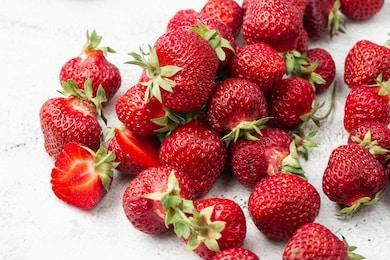Fresa: (155, 113, 230, 202), (143, 26, 218, 114), (245, 170, 323, 244), (120, 164, 199, 237), (319, 140, 388, 213), (37, 93, 105, 160), (179, 197, 249, 260), (205, 76, 273, 136), (58, 47, 122, 108), (114, 83, 175, 140), (228, 40, 286, 92), (337, 82, 390, 133)
